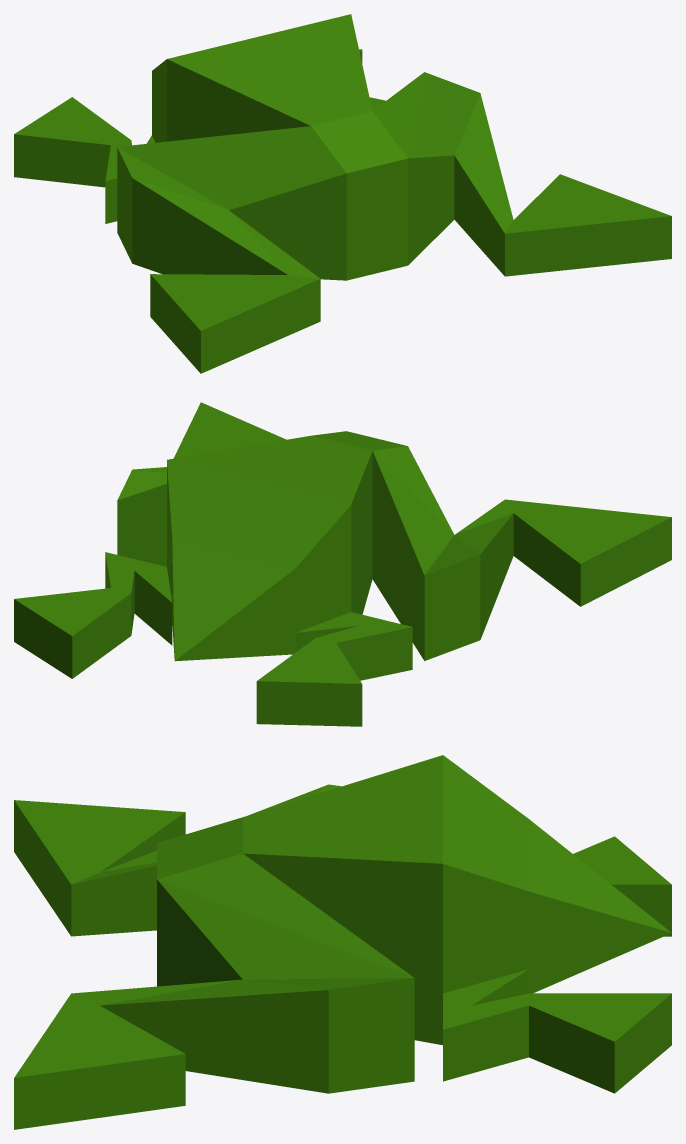
Rendered from inv_swamp_toad.obj.
3 renders of one model, top to bottom at view 1: azimuth 30°, elevation 25°; view 2: azimuth 150°, elevation 25°; view 3: azimuth 270°, elevation 25°, orthographic. The views are drawn at different scales.
Size of the model in its own units: 0.1797 by 0.0547 by 0.1797.
